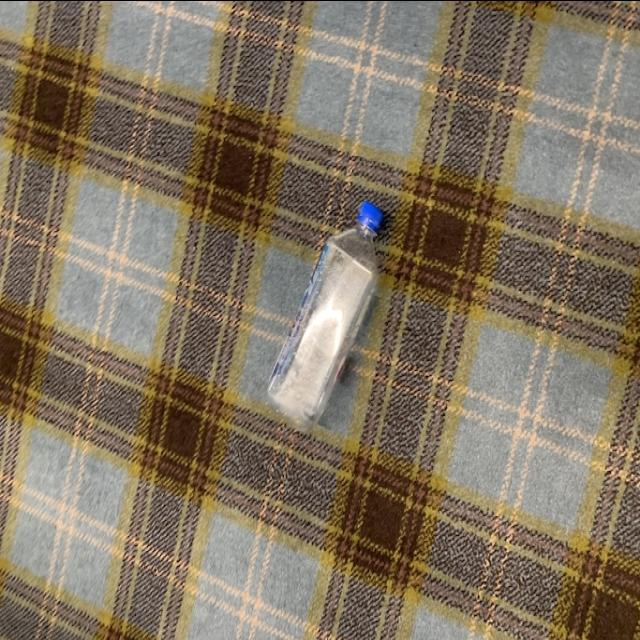litter: (268, 194, 386, 428)
